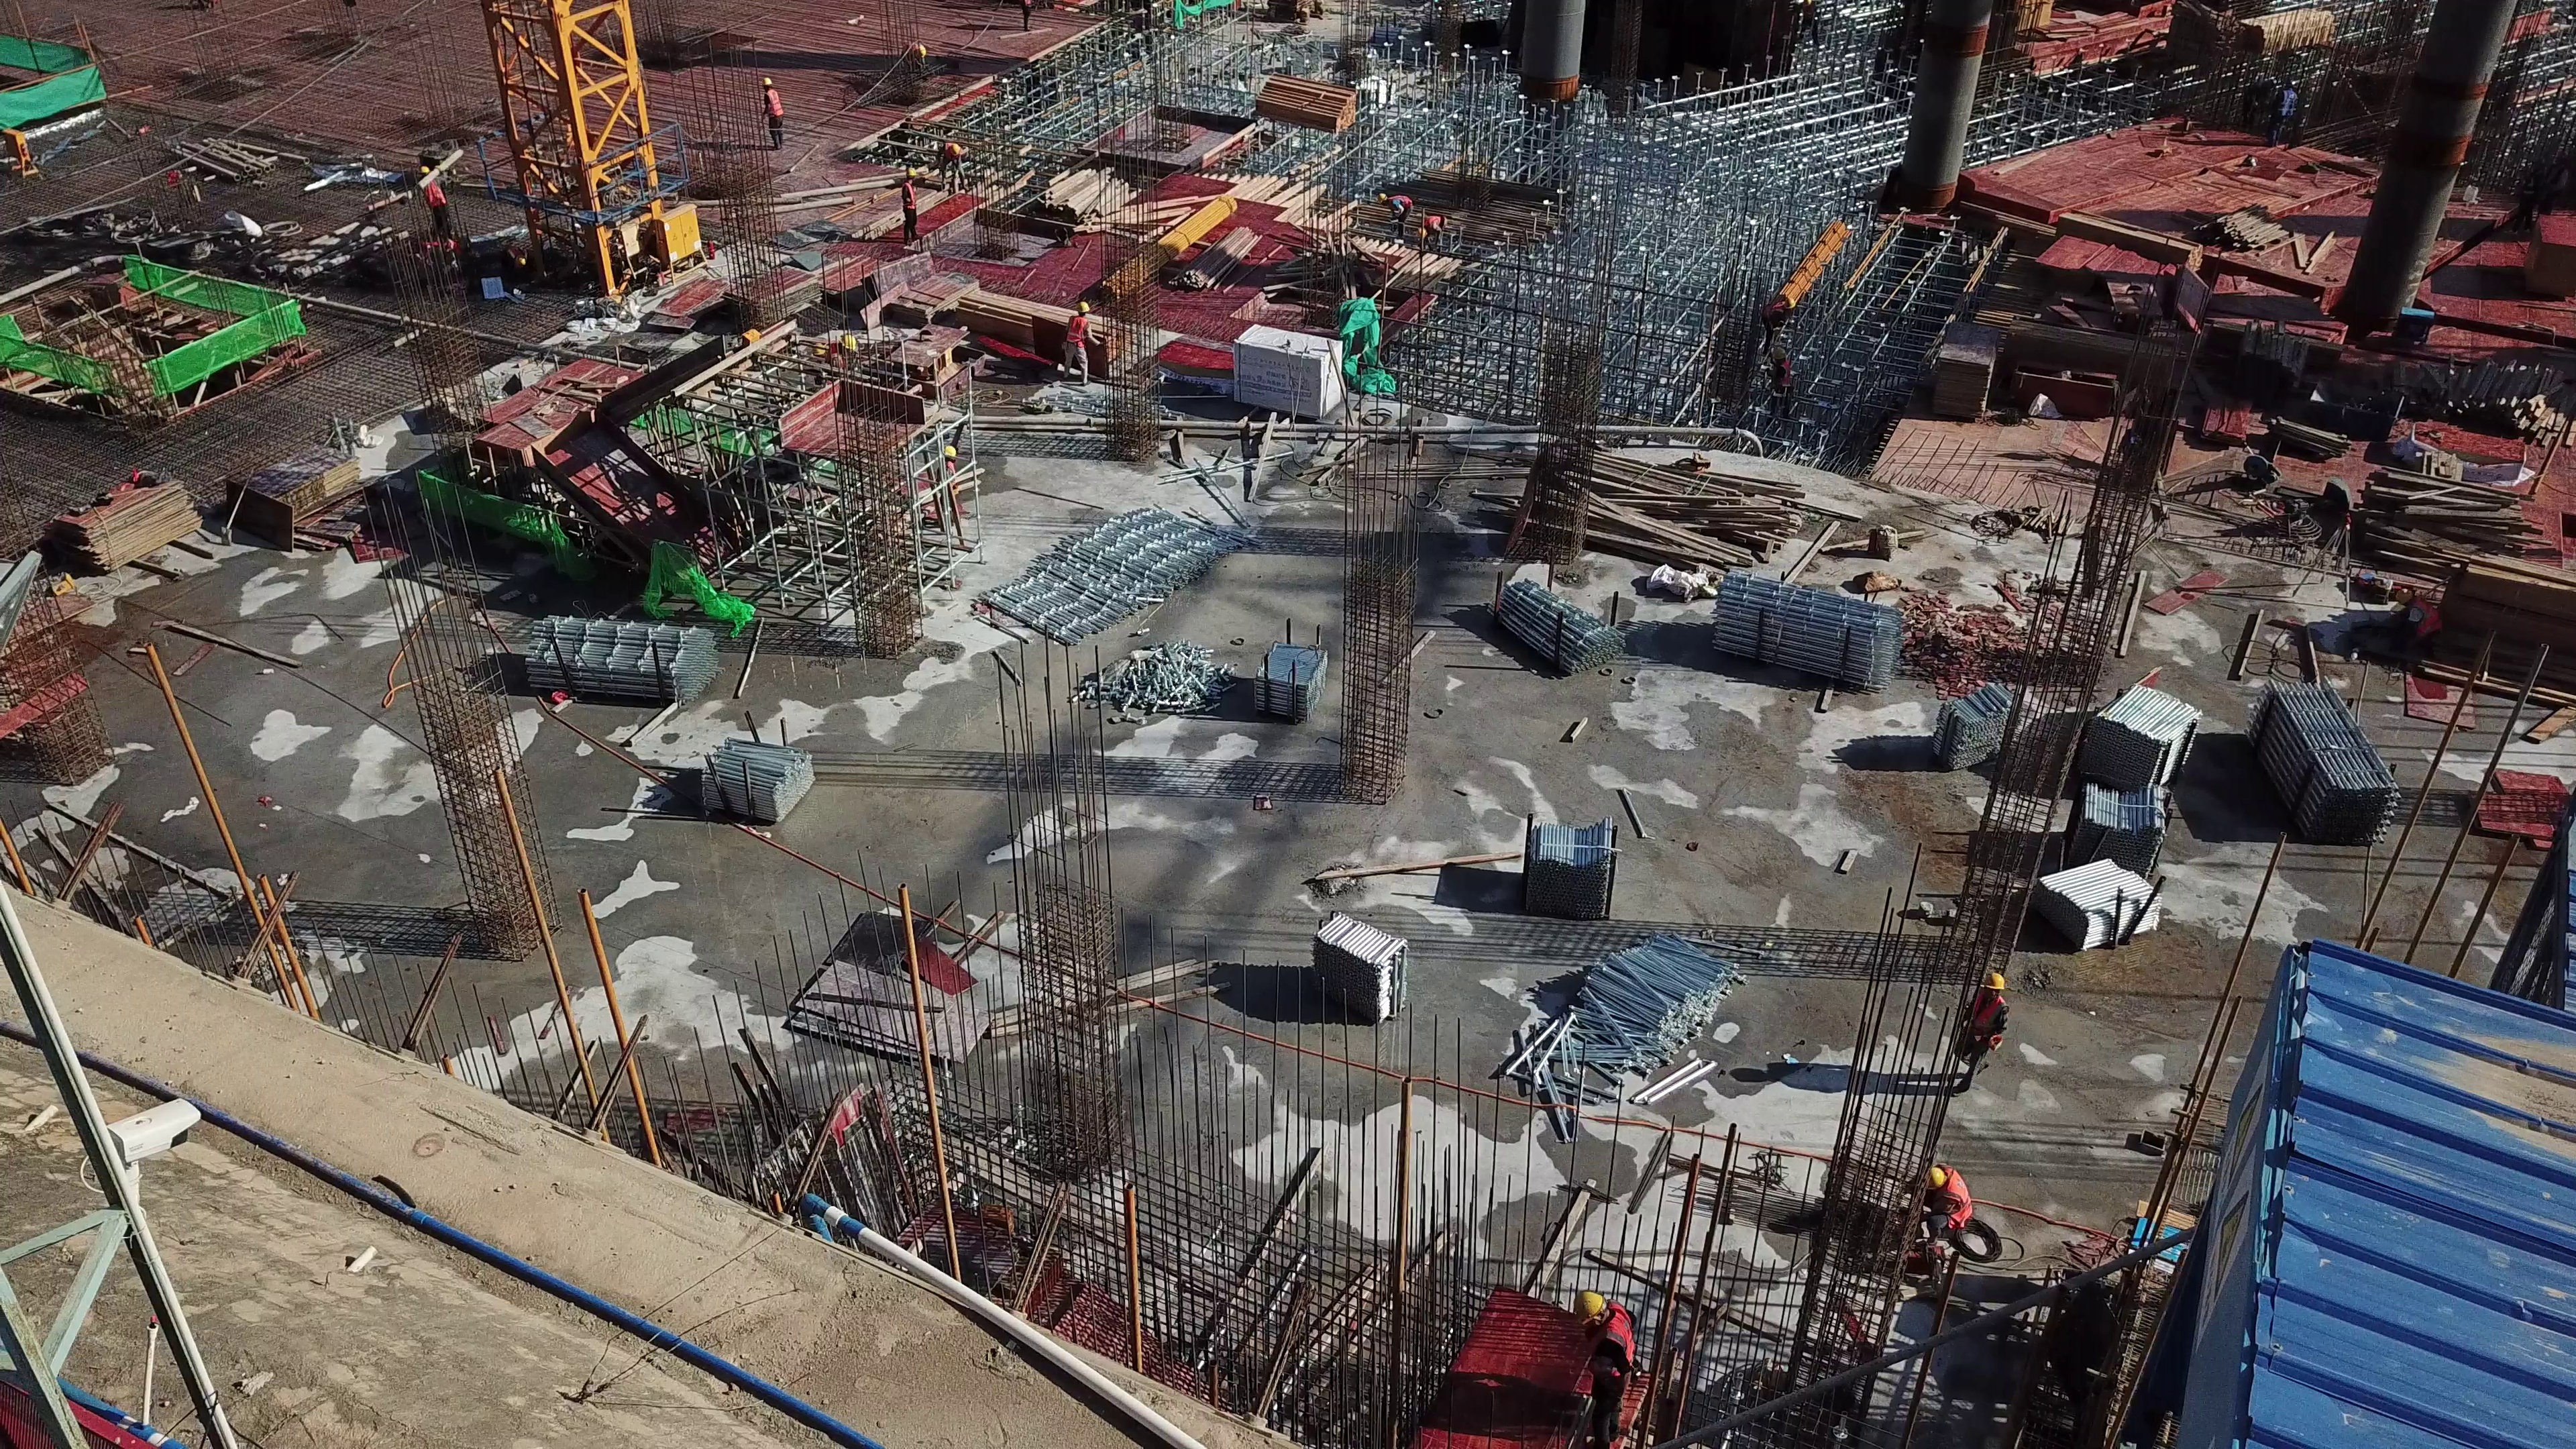board: (49, 466, 201, 582), (232, 440, 366, 567), (1937, 310, 2006, 430)
ebox: (653, 203, 704, 265)
person: (1575, 1279, 1647, 1449), (1913, 1150, 1974, 1261), (1957, 969, 2006, 1091), (2390, 585, 2451, 672), (402, 162, 449, 254), (934, 435, 965, 554), (1063, 299, 1102, 391), (758, 74, 796, 152), (892, 156, 924, 249), (1760, 353, 1801, 425), (1747, 290, 1799, 345), (1362, 190, 1404, 243), (936, 133, 965, 195), (1414, 211, 1453, 250)
scaffold: (977, 474, 1234, 645), (1688, 558, 1916, 707), (2237, 672, 2406, 861), (511, 622, 708, 710), (1489, 577, 1631, 688), (2031, 858, 2165, 964), (2080, 675, 2210, 780), (1517, 792, 1627, 914), (1303, 902, 1414, 1019), (2072, 786, 2178, 879), (696, 737, 800, 820), (1249, 631, 1337, 719)
wood: (2359, 462, 2576, 692), (1511, 435, 1825, 593), (2000, 313, 2196, 400), (2418, 339, 2576, 435), (942, 281, 1111, 368), (1009, 162, 1169, 249), (2202, 211, 2330, 278), (1252, 68, 1368, 133), (2231, 319, 2313, 403), (2224, 9, 2338, 51)
